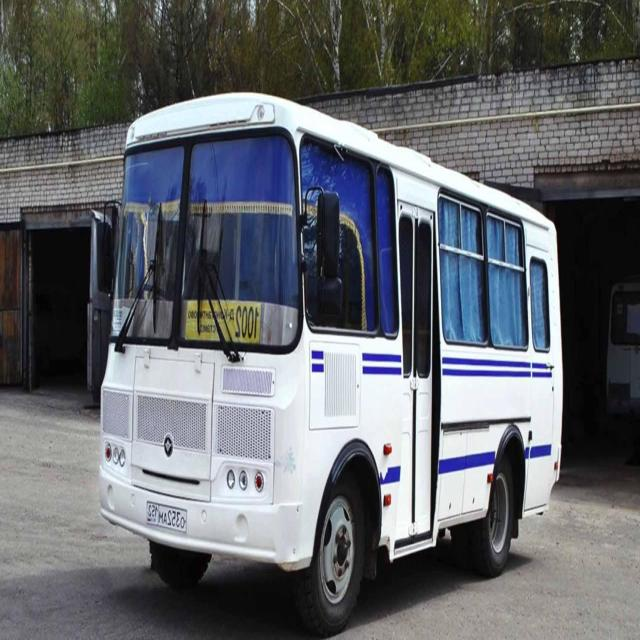bus: (91, 89, 567, 634)
